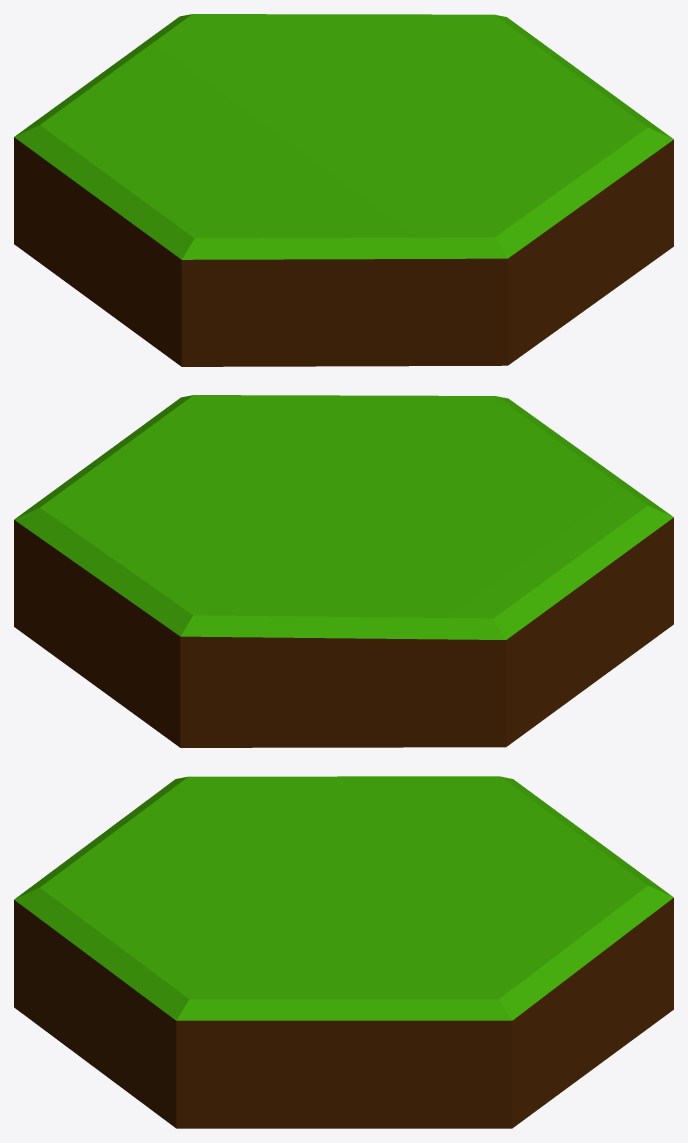
File: Hex_Small.fbx
3 views of the same model, one above another, from view 1: azimuth 30°, elevation 25°; view 2: azimuth 150°, elevation 25°; view 3: azimuth 270°, elevation 25° (orthographic).
Parts seen in each view (by area): view 1: pCube1; view 2: pCube1; view 3: pCube1.
Part boxes in pixels (<box>): pCube1: <box>14,14,673,366</box>; pCube1: <box>14,395,673,747</box>; pCube1: <box>14,776,673,1128</box>.
Bounding box in the file's own units: 4.33 × 1.04 × 5.
